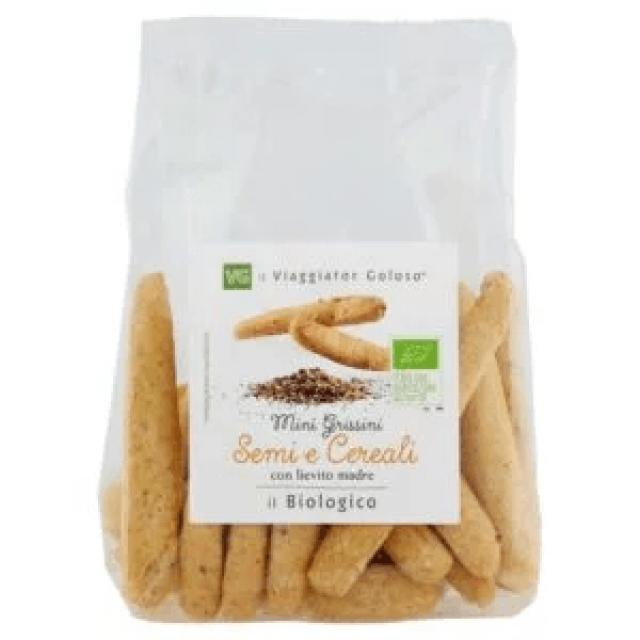bread: (98, 19, 546, 627)
